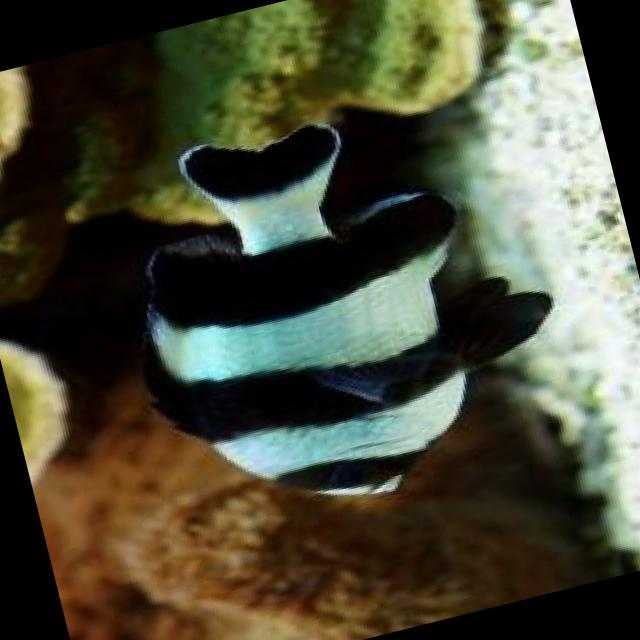ThreeStripedDamselfish: (144, 105, 554, 496)
